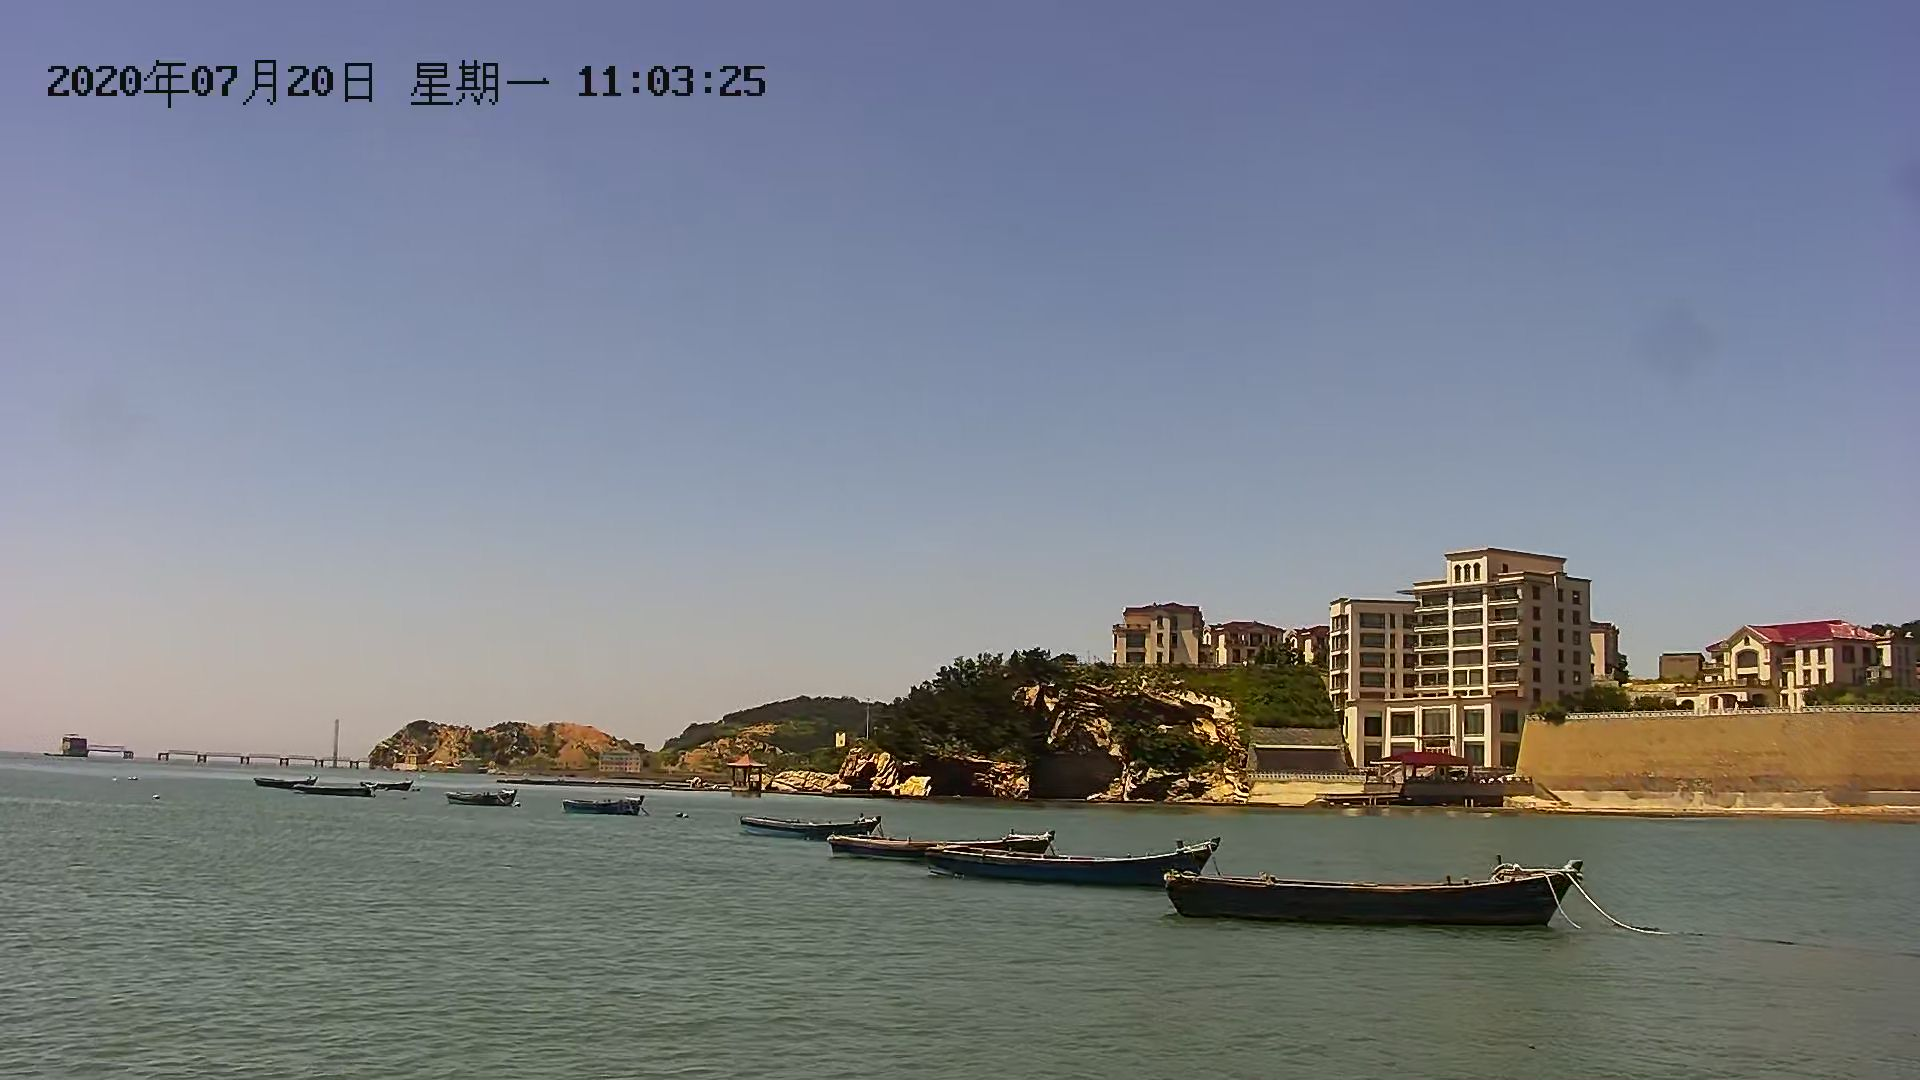boat: (1158, 861, 1590, 936), (924, 837, 1221, 895), (819, 823, 1054, 869), (735, 810, 881, 844), (555, 791, 647, 822), (436, 783, 521, 816), (295, 774, 380, 798), (245, 773, 315, 789)
harbor: (59, 731, 380, 777)
